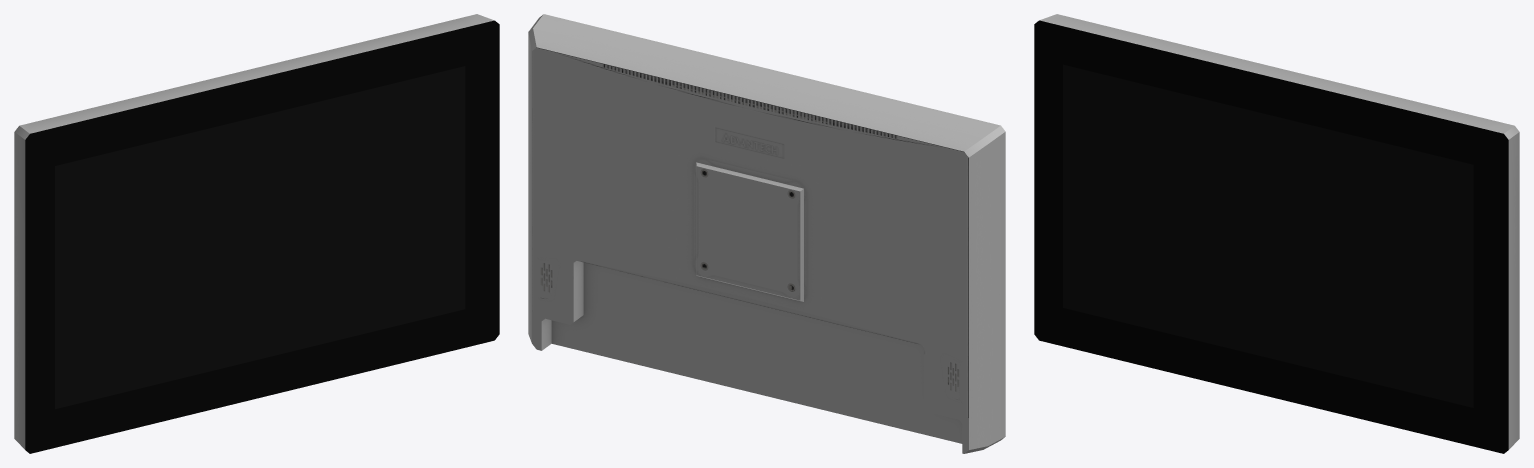
The model's file is prop_UTC315.fbx.
3 views of the same model, side by side, from view 1: azimuth 30°, elevation 25°; view 2: azimuth 150°, elevation 25°; view 3: azimuth 330°, elevation 25° (orthographic).
Parts seen in each view (by area): view 1: A; view 2: A; view 3: A.
Part boxes in pixels (box(x1,y1,x2,y2)): A: box(14, 14, 499, 453); A: box(528, 14, 1005, 453); A: box(1034, 14, 1519, 453).
Size of the model in its own units: 1025 by 661 by 95.84.
